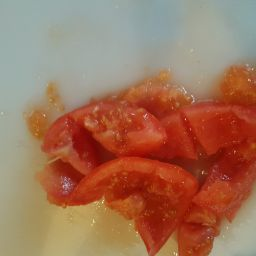Tomato: (5, 55, 256, 256), (58, 50, 256, 256), (12, 73, 136, 232), (92, 90, 256, 175), (64, 151, 195, 256), (196, 57, 256, 242)
